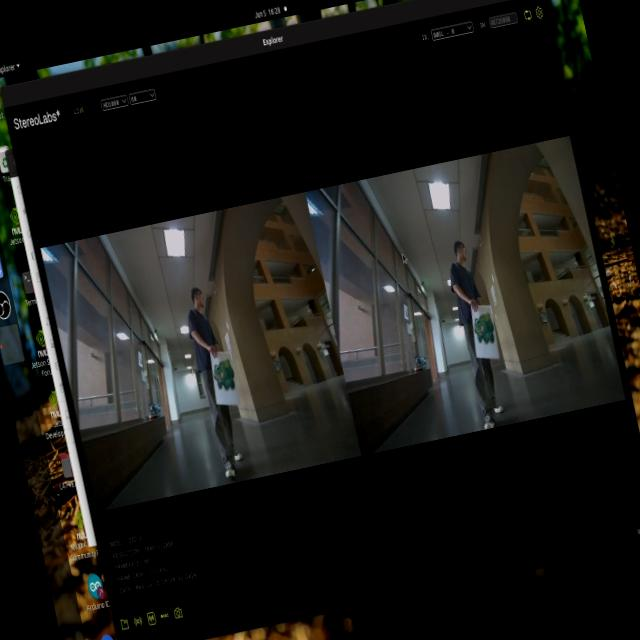green: (472, 308, 508, 359), (216, 354, 250, 403)
